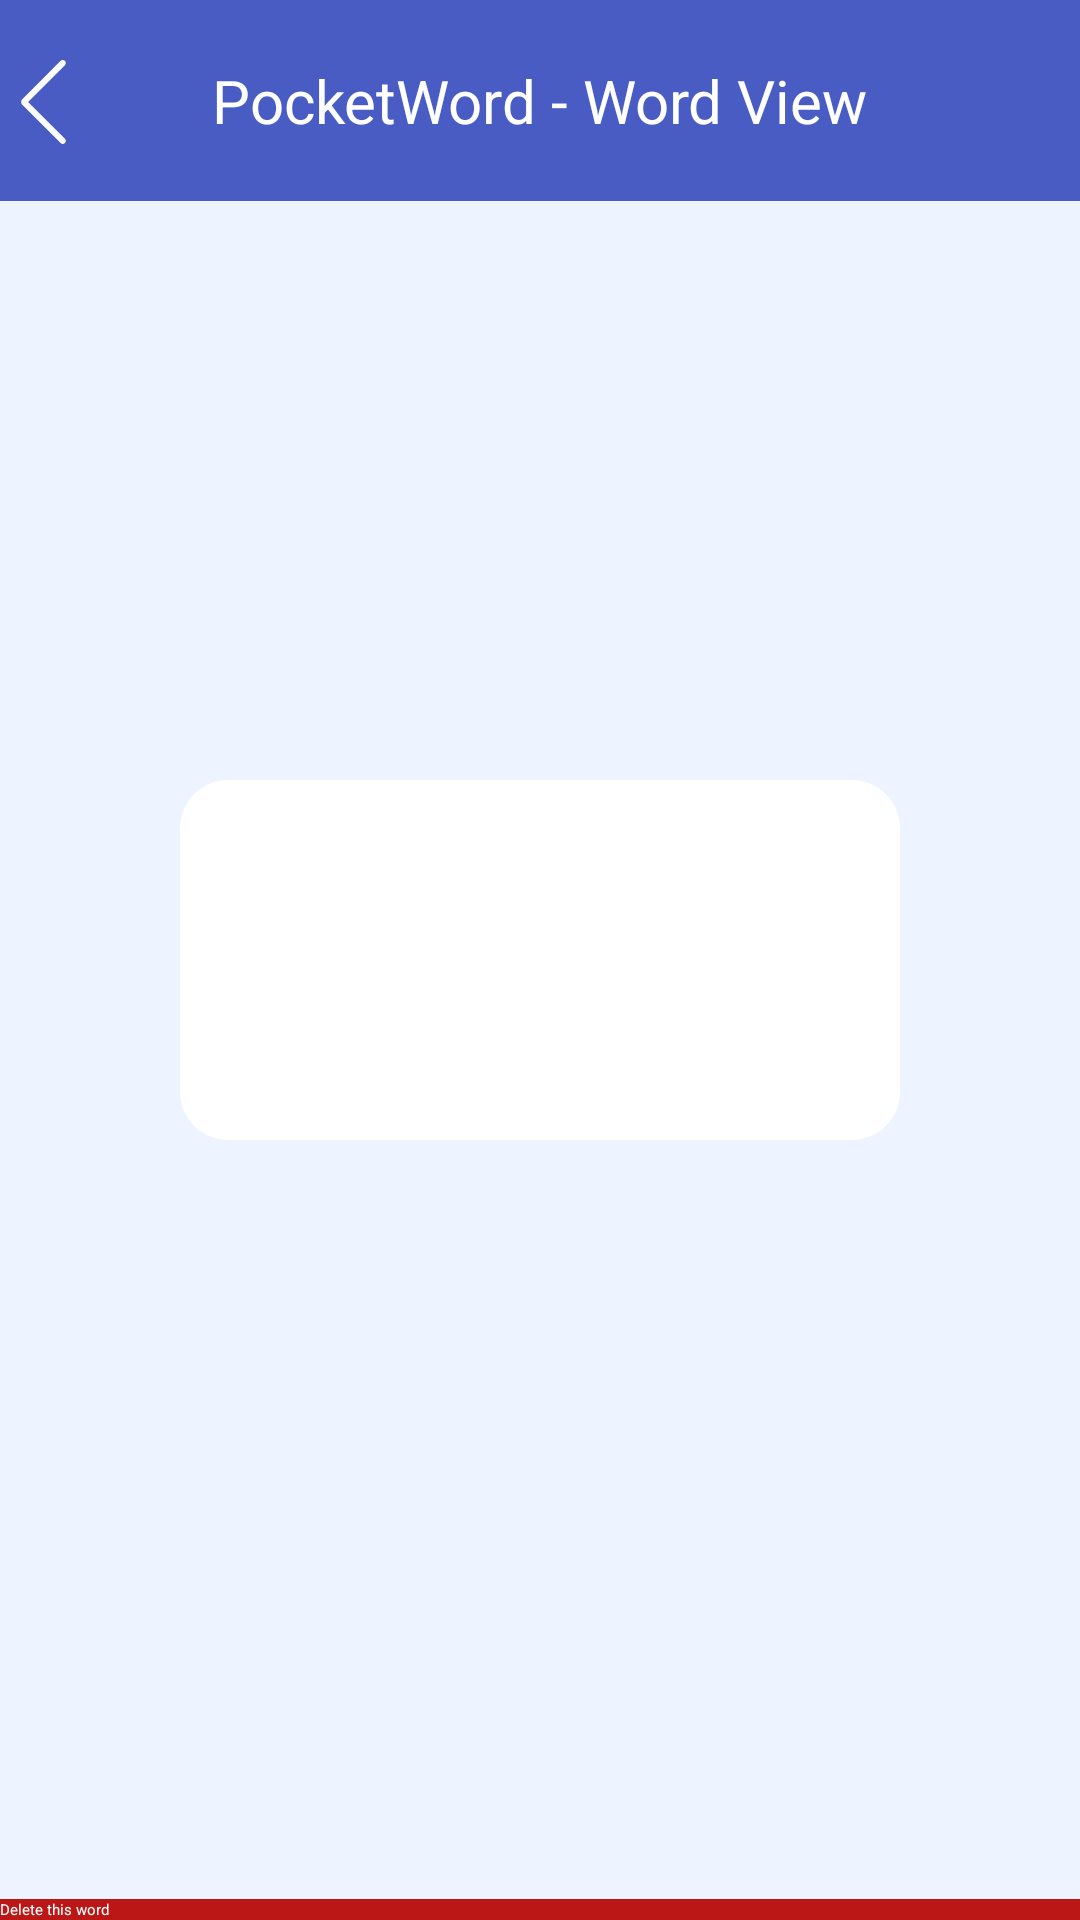

Named icons in this screenshot (1080×1920) and their bounding boxes, (x1, y1, x2, y2):
back: (21, 60, 66, 144)
